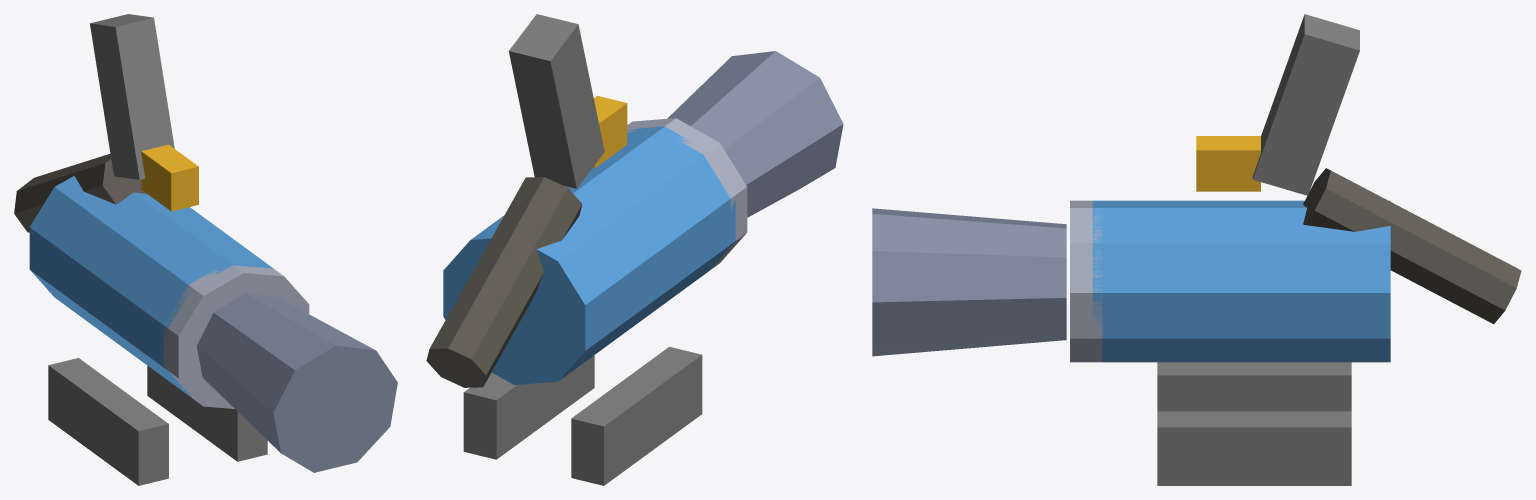
Rendered from vacuum.glb.
3 renders of one model, left to right at view 1: azimuth 30°, elevation 25°; view 2: azimuth 150°, elevation 25°; view 3: azimuth 270°, elevation 25°, orthographic. The views are drawn at different scales.
Visible parts, largest first — view 1: vacuum; view 2: vacuum; view 3: vacuum.
Boxes of the visible parts, left/top/right/bottom form: vacuum: left=14, top=14, right=397, bottom=485; vacuum: left=426, top=14, right=843, bottom=485; vacuum: left=872, top=14, right=1521, bottom=485.
Bounding box in the file's own units: 0.25 × 0.7275 × 1.
